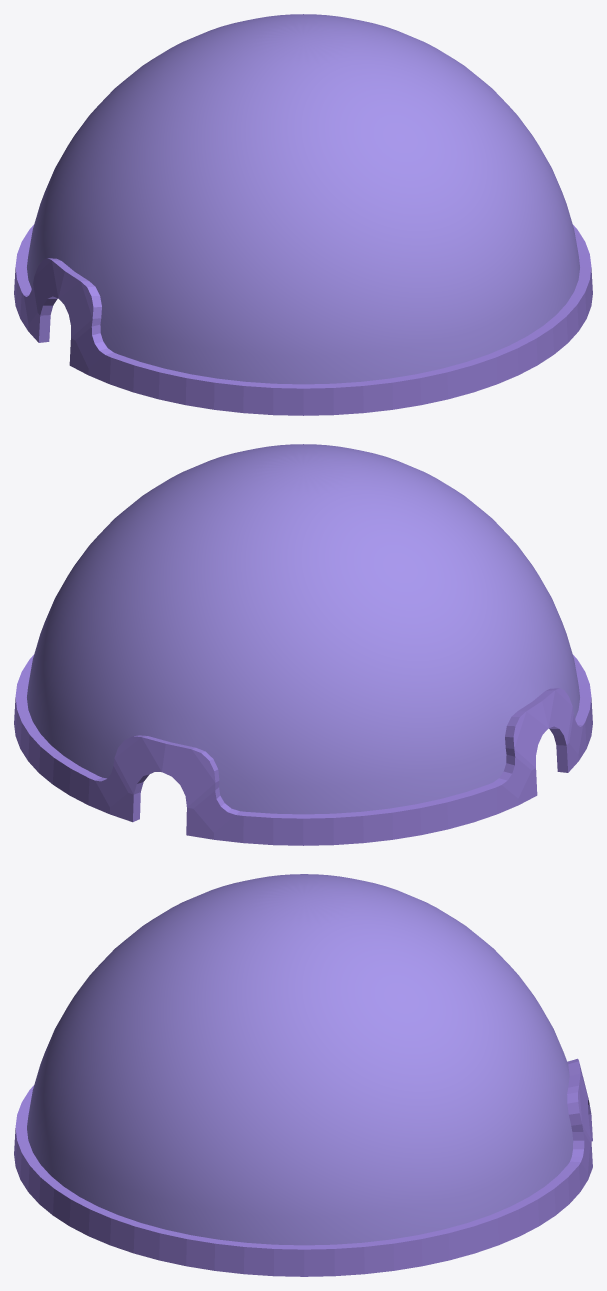
Rendered from cupula buena.fbx.
3 renders of one model, top to bottom at view 1: azimuth 30°, elevation 25°; view 2: azimuth 150°, elevation 25°; view 3: azimuth 270°, elevation 25°, orthographic.
Parts seen in each view (by area): view 1: Sphere, Sphere.001; view 2: Sphere, Sphere.001; view 3: Sphere, Sphere.001.
Part boxes in pixels (x1,y1,x2,y2): Sphere: (27,14,579,384); Sphere.001: (14,225,592,415); Sphere: (27,444,579,814); Sphere.001: (14,655,592,845); Sphere: (27,874,573,1245); Sphere.001: (14,1058,592,1276).
Bounding box in the file's own units: 204 × 99.71 × 204.
